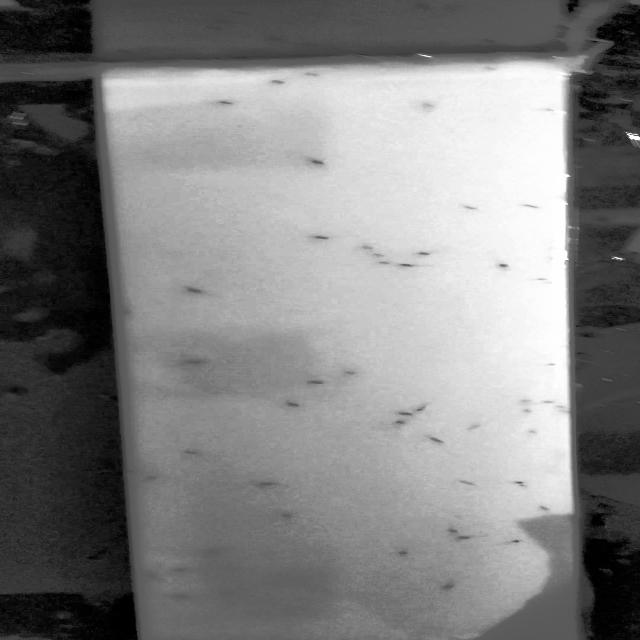shrimp: (277, 398, 322, 409), (305, 379, 336, 392), (254, 477, 287, 489), (176, 446, 205, 459), (428, 432, 451, 448), (408, 401, 429, 416), (332, 367, 363, 377), (182, 357, 210, 368), (532, 101, 558, 112), (521, 428, 549, 438), (267, 76, 298, 85), (497, 261, 519, 273), (183, 286, 209, 296), (418, 100, 439, 112), (388, 411, 424, 418), (451, 482, 480, 490), (519, 198, 541, 208), (459, 202, 481, 212), (529, 274, 551, 284), (309, 232, 333, 241), (370, 257, 394, 266), (536, 278, 563, 286), (499, 540, 526, 548), (300, 72, 326, 80), (364, 250, 390, 258), (468, 421, 491, 430), (311, 156, 331, 166), (397, 262, 423, 269), (124, 465, 144, 474), (142, 572, 160, 582), (450, 533, 470, 542), (213, 98, 235, 106), (355, 244, 376, 252), (169, 564, 190, 572), (109, 305, 132, 312), (142, 474, 164, 481), (513, 408, 532, 416), (393, 550, 412, 558), (544, 358, 558, 368), (172, 595, 192, 602), (439, 583, 458, 590), (539, 398, 557, 405), (380, 420, 404, 425), (442, 524, 456, 532), (418, 248, 430, 257), (518, 396, 534, 402), (277, 510, 289, 518), (557, 408, 572, 414), (553, 405, 567, 411), (540, 506, 554, 512), (220, 588, 238, 592), (203, 550, 216, 555), (513, 480, 527, 482)
